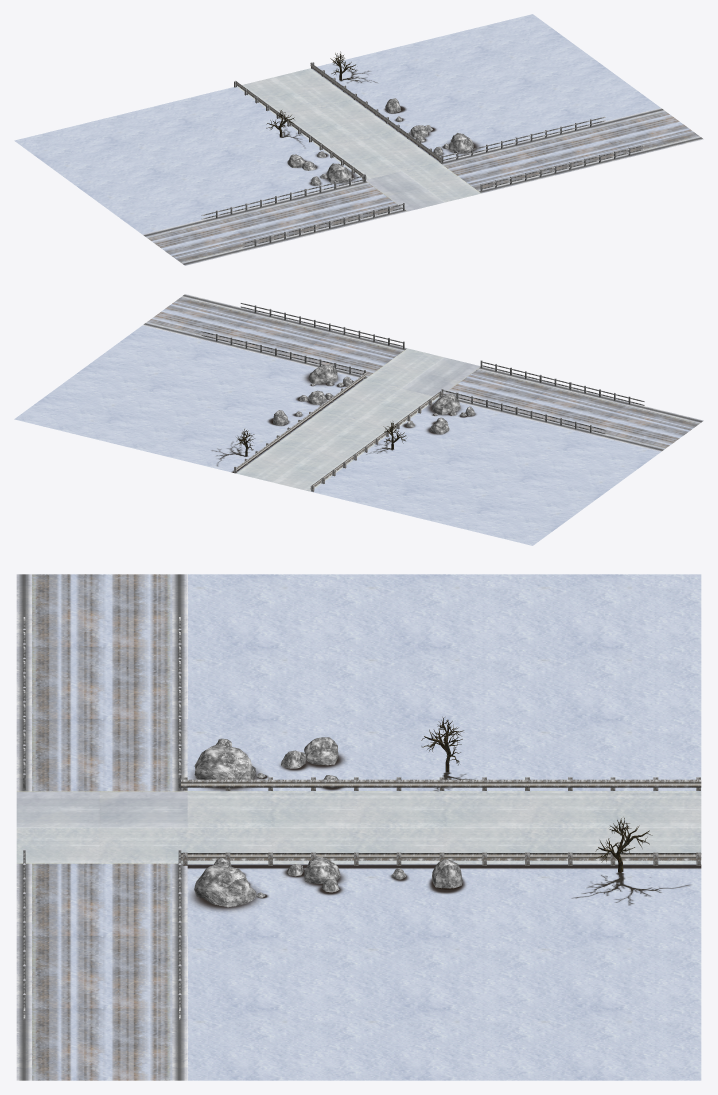
File: end1.FBX
3 views of the same model, one above another, from view 1: azimuth 30°, elevation 25°; view 2: azimuth 150°, elevation 25°; view 3: azimuth 270°, elevation 25° (orthographic). The views are drawn at different scales.
Visible parts, largest first — view 1: end1, end2, road014, boundry003, boundry002, rock008, relling006, Box037; view 2: end1, end2, road014, boundry002, boundry003, rock008, relling006, Box037; view 3: end1, end2, road014, relling006, rock008, boundry002, boundry003, Box037.
Boxes of the visible parts, bbox=[...] form: end1: bbox=[14, 14, 660, 234]; end2: bbox=[146, 111, 699, 263]; road014: bbox=[237, 68, 481, 211]; boundry003: bbox=[142, 108, 664, 237]; boundry002: bbox=[181, 136, 703, 265]; rock008: bbox=[287, 98, 473, 185]; relling006: bbox=[234, 62, 441, 181]; Box037: bbox=[266, 51, 355, 136]; end1: bbox=[14, 325, 660, 545]; end2: bbox=[144, 297, 699, 451]; road014: bbox=[237, 348, 480, 491]; boundry002: bbox=[181, 294, 703, 423]; boundry003: bbox=[143, 322, 664, 451]; rock008: bbox=[273, 364, 474, 434]; relling006: bbox=[234, 372, 442, 491]; Box037: bbox=[236, 421, 406, 455]; end1: bbox=[187, 574, 701, 1080]; end2: bbox=[32, 574, 172, 1080]; road014: bbox=[16, 791, 701, 863]; relling006: bbox=[181, 777, 701, 865]; rock008: bbox=[194, 737, 462, 907]; boundry002: bbox=[16, 574, 31, 1080]; boundry003: bbox=[172, 574, 187, 1080]; Box037: bbox=[421, 717, 652, 872].
Bounding box in the file's own units: 140 × 8.74 × 80.
